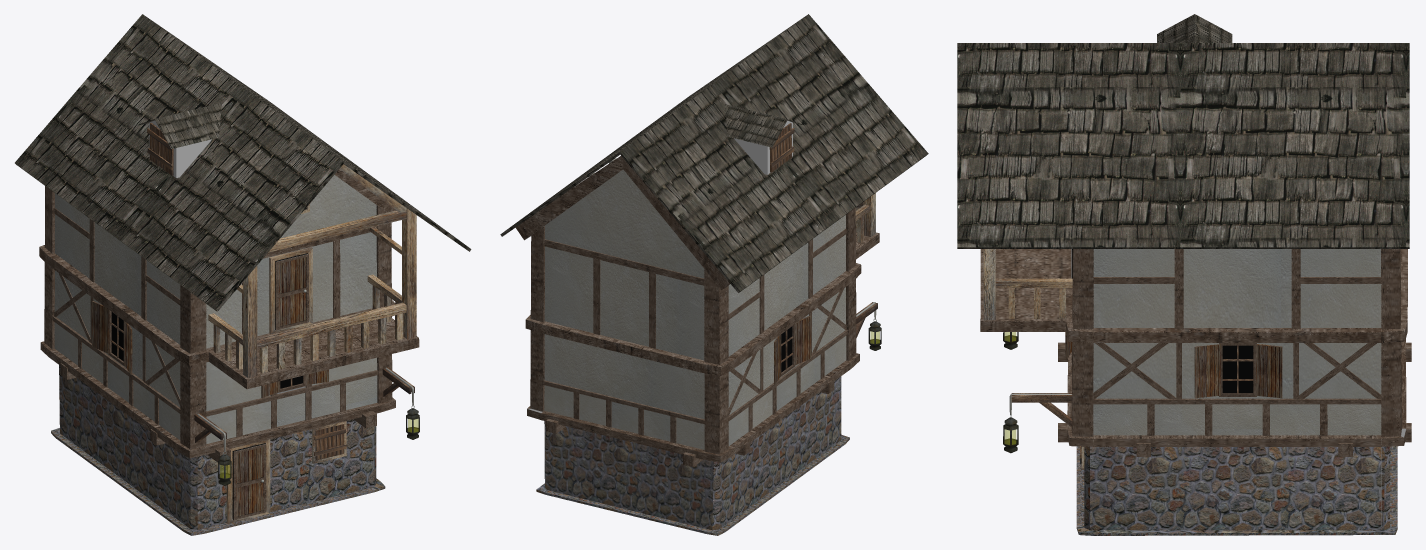
The model's file is Barrack.FBX.
3 renders of one model, left to right at view 1: azimuth 30°, elevation 25°; view 2: azimuth 150°, elevation 25°; view 3: azimuth 270°, elevation 25°, orthographic. The views are drawn at different scales.
Visible parts, largest first — view 1: Plane001; view 2: Plane001; view 3: Plane001.
Boxes of the visible parts, <box> form: Plane001: <box>15,14,471,535</box>; Plane001: <box>500,14,928,535</box>; Plane001: <box>957,14,1411,535</box>.
Bounding box in the file's own units: 90.2 × 131 × 123.
